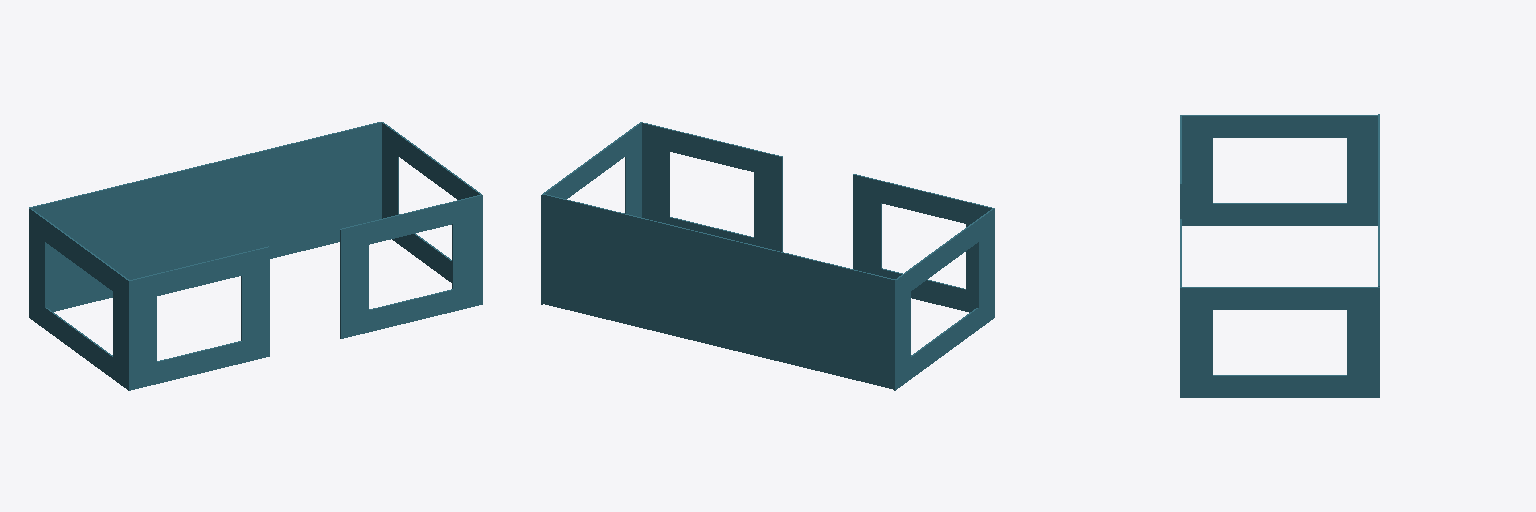
The model's file is dinding.obj.
3 renders of one model, left to right at view 1: azimuth 30°, elevation 25°; view 2: azimuth 150°, elevation 25°; view 3: azimuth 270°, elevation 25°, orthographic.
Visible parts, largest first — view 1: Cube.001, Cube.081, Cube.084, Cube.008, Cube.087, Cube.080, Cube.086, Cube.006_Cube.095, Cube.088, Cube.085, Cube.083, Cube.005_Cube.094 (+4 smaller); view 2: Cube.001, Cube.088, Cube.087, Cube.086, Cube.080, Cube.083, Cube.081, Cube.084, Cube.005_Cube.094, Cube.004_Cube.093, Cube.082, Cube.003_Cube.092 (+3 smaller); view 3: Cube.002_Cube.091, Cube.083, Cube.005_Cube.094, Cube.080, Cube.082, Cube.004_Cube.093, Cube.090, Cube.089.
Boxes of the visible parts, x1=… form: Cube.001: x1=29, y1=122, x2=381, y2=311; Cube.081: x1=129, y1=246, x2=269, y2=302; Cube.084: x1=340, y1=196, x2=480, y2=250; Cube.008: x1=129, y1=336, x2=269, y2=390; Cube.087: x1=340, y1=230, x2=368, y2=338; Cube.080: x1=29, y1=208, x2=129, y2=302; Cube.086: x1=452, y1=195, x2=480, y2=301; Cube.006_Cube.095: x1=342, y1=289, x2=480, y2=338; Cube.088: x1=241, y1=252, x2=269, y2=344; Cube.085: x1=129, y1=279, x2=156, y2=373; Cube.083: x1=382, y1=122, x2=481, y2=199; Cube.005_Cube.094: x1=39, y1=308, x2=125, y2=387; Cube.001: x1=543, y1=194, x2=895, y2=388; Cube.088: x1=853, y1=175, x2=881, y2=275; Cube.087: x1=754, y1=151, x2=782, y2=251; Cube.086: x1=642, y1=122, x2=669, y2=222; Cube.080: x1=895, y1=208, x2=994, y2=302; Cube.083: x1=542, y1=122, x2=641, y2=198; Cube.081: x1=853, y1=174, x2=991, y2=223; Cube.084: x1=670, y1=129, x2=782, y2=171; Cube.005_Cube.094: x1=902, y1=308, x2=992, y2=385; Cube.004_Cube.093: x1=893, y1=281, x2=910, y2=390; Cube.082: x1=977, y1=209, x2=994, y2=318; Cube.003_Cube.092: x1=853, y1=263, x2=974, y2=311; Cube.002_Cube.091: x1=1180, y1=375, x2=1378, y2=397; Cube.083: x1=1180, y1=287, x2=1378, y2=309; Cube.005_Cube.094: x1=1182, y1=203, x2=1377, y2=225; Cube.080: x1=1180, y1=115, x2=1377, y2=137; Cube.082: x1=1182, y1=116, x2=1212, y2=225; Cube.004_Cube.093: x1=1347, y1=116, x2=1377, y2=225; Cube.090: x1=1180, y1=288, x2=1212, y2=397; Cube.089: x1=1347, y1=287, x2=1379, y2=397.
Size of the model in its own units: 67.66 by 20.17 by 33.08.